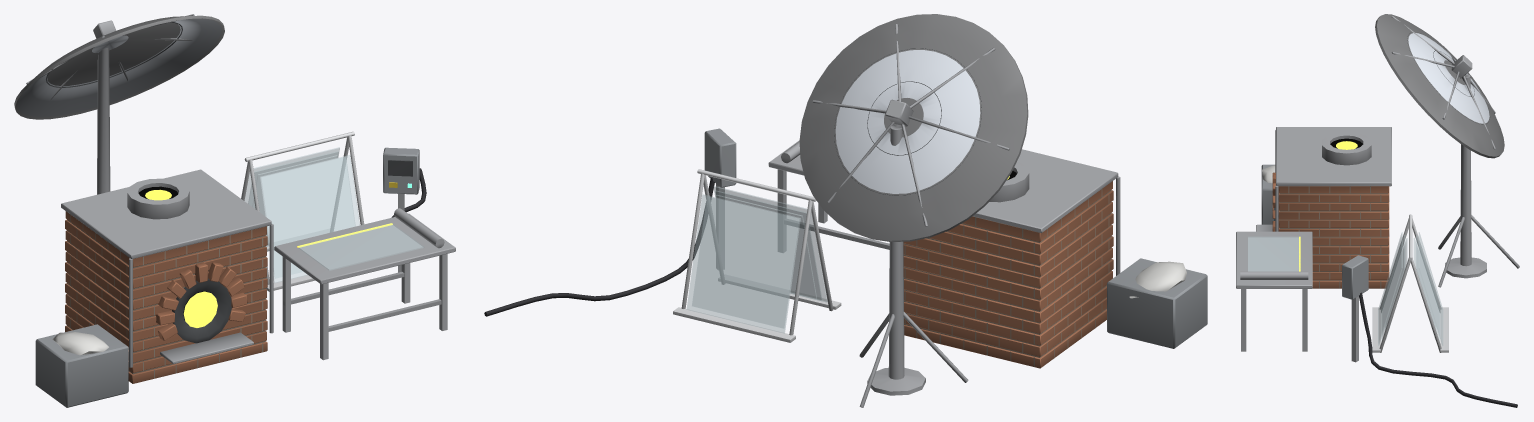
The model's file is bs_glassworks.glb.
The picture shows the model from 3 angles, left to right: view 1: azimuth 30°, elevation 25°; view 2: azimuth 150°, elevation 25°; view 3: azimuth 270°, elevation 25°; orthographic projection. The views are drawn at different scales.
Parts seen in each view (by area): view 1: bs_glassworks_mesh, stock_mesh; view 2: bs_glassworks_mesh, stock_mesh; view 3: bs_glassworks_mesh, stock_mesh.
Part boxes in pixels (x1,y1,x2,y2): bs_glassworks_mesh: (14,14,455,407); stock_mesh: (241,131,364,291); bs_glassworks_mesh: (484,14,1207,407); stock_mesh: (673,169,841,342); bs_glassworks_mesh: (1236,14,1519,407); stock_mesh: (1372,214,1448,352).
Size of the model in its own units: 5.67 by 3.17 by 3.33.
